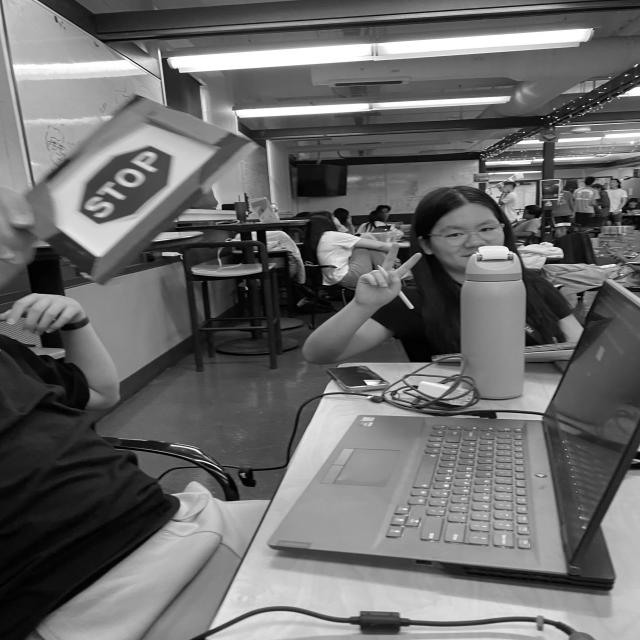stop: (75, 140, 177, 228)
